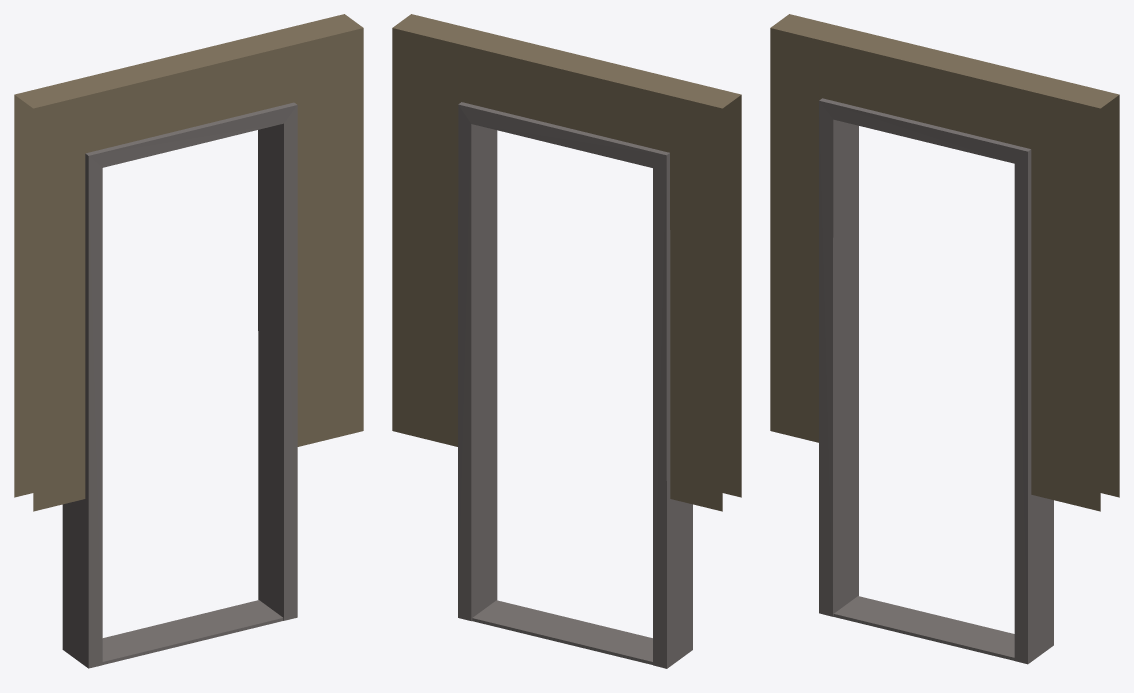
The model's file is SM_DoorFrame_A1_200.fbx.
The picture shows the model from 3 angles, left to right: view 1: azimuth 30°, elevation 25°; view 2: azimuth 150°, elevation 25°; view 3: azimuth 330°, elevation 25°; orthographic projection.
Visible parts, largest first — view 1: SM_DoorFrame_A1_200; view 2: SM_DoorFrame_A1_200; view 3: SM_DoorFrame_A1_200.
Part boxes in pixels (x1,y1,x2,y2): SM_DoorFrame_A1_200: [14, 14, 363, 668]; SM_DoorFrame_A1_200: [392, 14, 741, 668]; SM_DoorFrame_A1_200: [770, 14, 1119, 664].
Size of the model in its own units: 200 by 330 by 27.36.
Materials: 4 (4 with a texture image).
